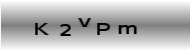2: (58, 23, 72, 37)
K: (34, 21, 49, 36)
P: (96, 22, 111, 35)
m: (117, 24, 138, 35)
v: (77, 16, 92, 29)
